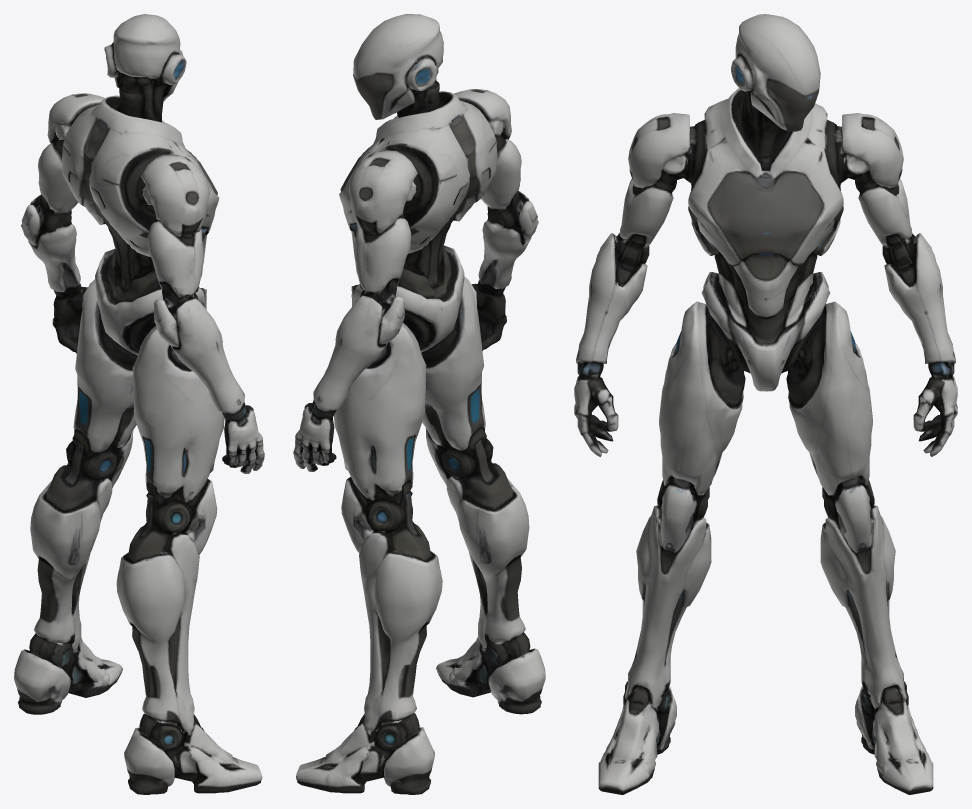
Rendered from 71b9da3c-c71e-4861-b892-5ab03bf38e6d-model_url.glb.
3 renders of one model, left to right at view 1: azimuth 30°, elevation 25°; view 2: azimuth 150°, elevation 25°; view 3: azimuth 270°, elevation 25°, orthographic. The views are drawn at different scales.
Parts seen in each view (by area): view 1: tripo_node_72fc944e-e523-4f53-868b-e6f38d051c8a; view 2: tripo_node_72fc944e-e523-4f53-868b-e6f38d051c8a; view 3: tripo_node_72fc944e-e523-4f53-868b-e6f38d051c8a.
Part boxes in pixels (x1=…): tripo_node_72fc944e-e523-4f53-868b-e6f38d051c8a: x1=14, y1=14, x2=264, y2=794; tripo_node_72fc944e-e523-4f53-868b-e6f38d051c8a: x1=293, y1=14, x2=545, y2=794; tripo_node_72fc944e-e523-4f53-868b-e6f38d051c8a: x1=574, y1=14, x2=957, y2=794.
Size of the model in its own units: 0.1937 by 1 by 0.4599.
Materials: 1 (1 with a texture image).
